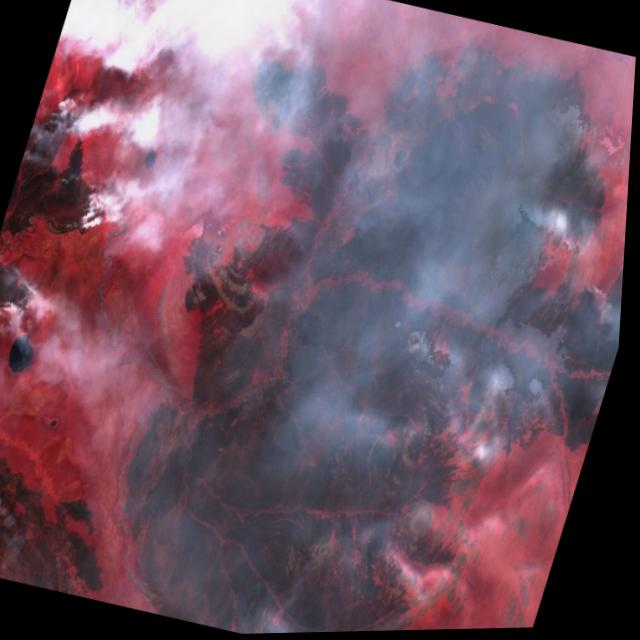fire: (0, 83, 140, 356), (582, 210, 630, 317)
